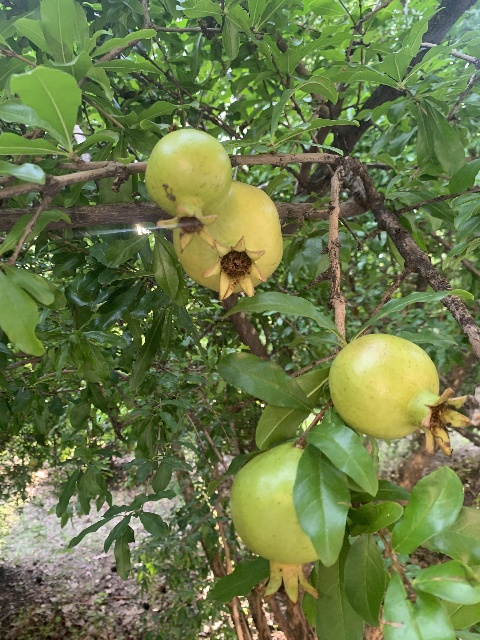mid-growth: (328, 332, 472, 456), (229, 442, 320, 602), (172, 180, 283, 301), (144, 128, 233, 251)
